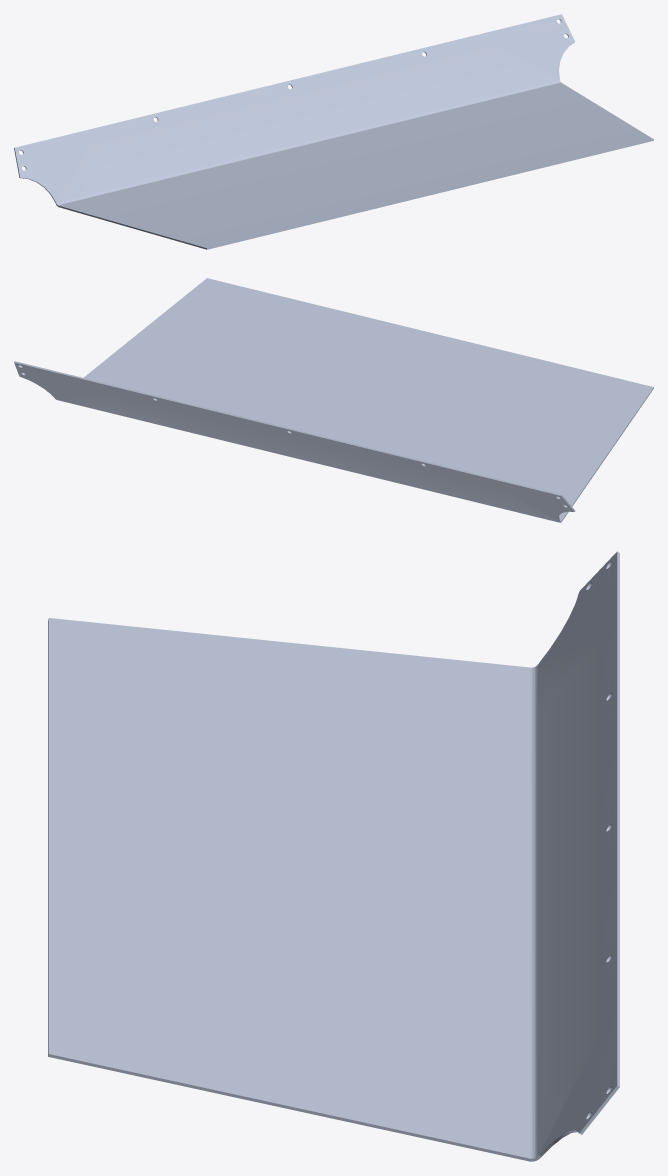
Rendered from Firewall__UA_26_Bottom_Firewall_1.dae.
The picture shows the model from 3 angles, top to bottom: view 1: azimuth 30°, elevation 25°; view 2: azimuth 150°, elevation 25°; view 3: azimuth 270°, elevation 25°; orthographic projection. The views are drawn at different scales.
Visible parts, largest first — view 1: node0; view 2: node0; view 3: node0.
Boxes of the visible parts, bbox=[...] form: node0: bbox=[14, 14, 653, 249]; node0: bbox=[14, 278, 653, 522]; node0: bbox=[48, 551, 619, 1161].
Size of the model in its own units: 0.5071 by 0.0426 by 0.2261.
